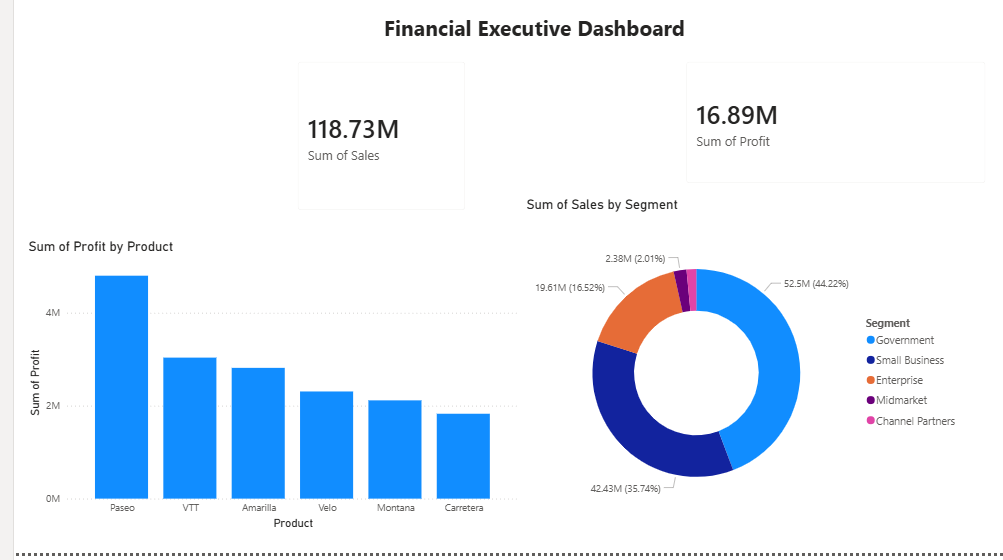

This screenshot's page, from the dashboard's own definition file:
{"tool":"powerbi","page":{"name":"Page 2","canvas":[1280,720],"ordinal":1},"visuals":[{"type":"textbox","box":[461.1,34,398.7,49.1],"z":0},{"type":"cardVisual","fields":{"Data":["Sum(financials.Sales)"]},"box":[340.2,83.2,245.7,221.1],"z":1},{"type":"cardVisual","fields":{"Data":["Sum(financials.Profit)"]},"box":[829.6,83.2,412,187.1],"z":2},{"type":"columnChart","fields":{"Category":["financials.Product"],"Y":["Sum(financials.Profit)"]},"box":[13.2,323.2,627.4,370.4],"z":3},{"type":"donutChart","fields":{"Category":["financials.Segment"],"Y":["Sum(financials.Sales)"]},"box":[640.6,270.2,559.4,423.3],"z":4}]}

Visuals, with their boxes in screenshot pixels (x1, y1, x2, y2), scaled from the page's 1280x720 canvas onto the 1003x560 screenshot:
textbox: [361, 26, 674, 65]
cardVisual - Sum(financials.Sales): [267, 65, 459, 237]
cardVisual - Sum(financials.Profit): [650, 65, 973, 210]
columnChart - financials.Product x Sum(financials.Profit): [10, 251, 502, 539]
donutChart - financials.Segment x Sum(financials.Sales): [502, 210, 940, 539]
